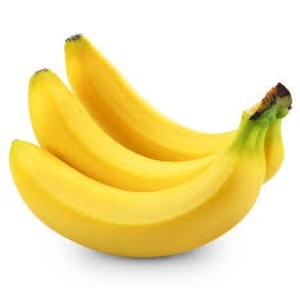banana_brain food: (51, 125, 227, 231)
